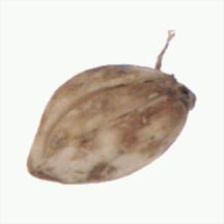L1: (157, 66, 196, 120), (23, 144, 54, 183)
L2: (26, 63, 194, 185)
